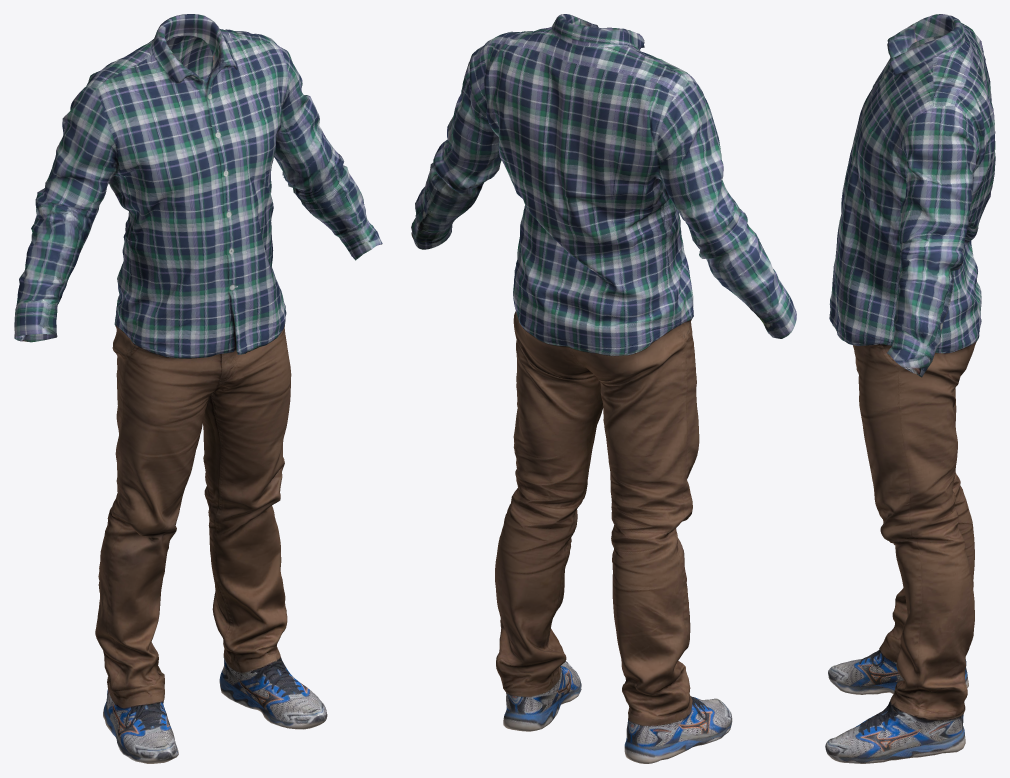
The model's file is CasualOutfit.gltf.
The picture shows the model from 3 angles, left to right: view 1: azimuth 30°, elevation 25°; view 2: azimuth 150°, elevation 25°; view 3: azimuth 270°, elevation 25°; orthographic projection. The views are drawn at different scales.
Parts seen in each view (by area): view 1: CasualOutfit; view 2: CasualOutfit; view 3: CasualOutfit.
Part boxes in pixels (x1,y1,x2,y2): CasualOutfit: (14,14,382,763); CasualOutfit: (411,14,796,763); CasualOutfit: (825,14,995,763).
Bounding box in the file's own units: 0.8848 × 1.6 × 0.3536.
Materials: 1 (1 with a texture image).
